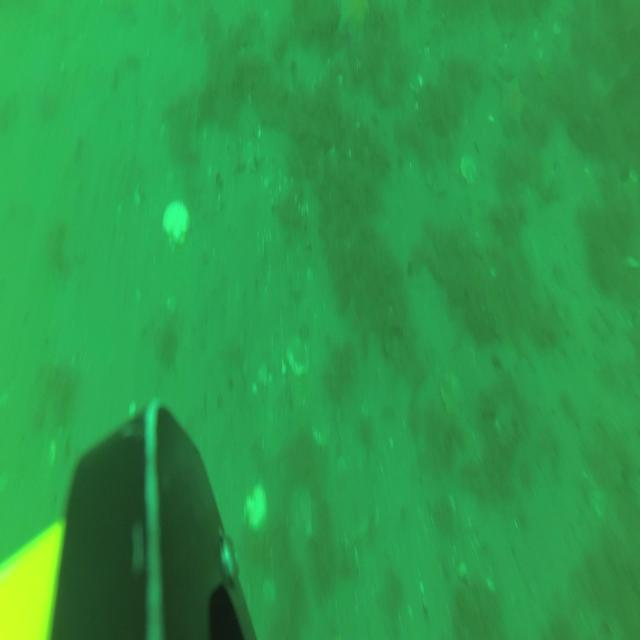scallop: (285, 482, 314, 549), (240, 480, 270, 537), (160, 200, 192, 250), (436, 370, 464, 414), (423, 154, 451, 196), (286, 334, 312, 378), (459, 152, 479, 186)
starfish: (334, 0, 373, 45), (496, 73, 528, 127)
